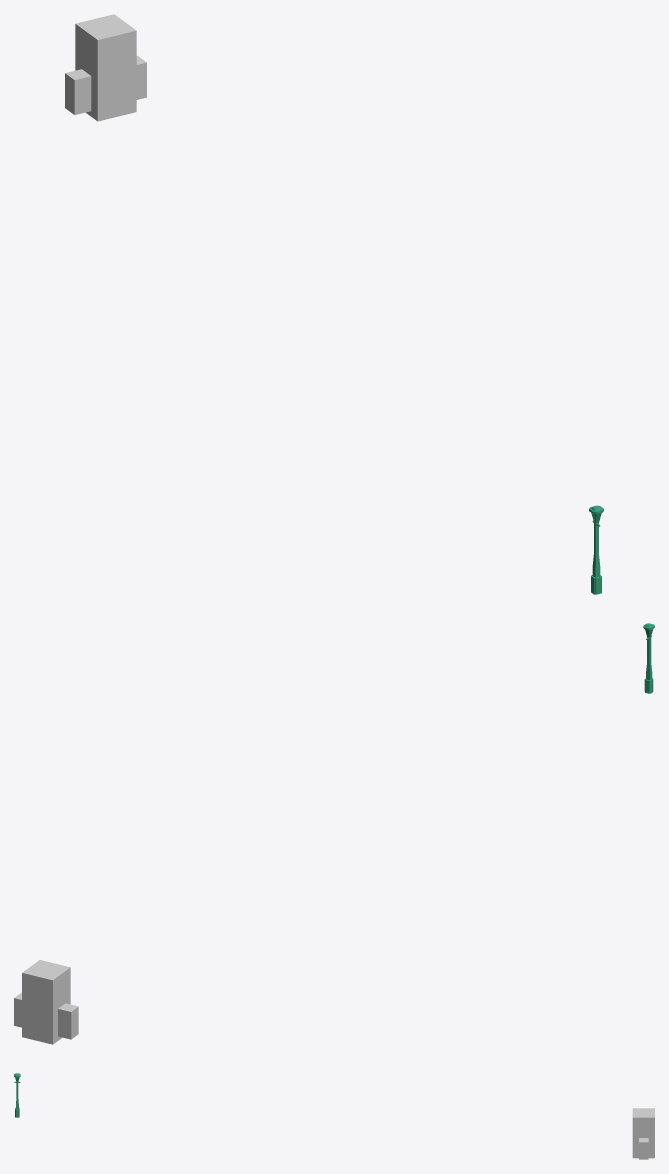
File: engineer.glb
The picture shows the model from 3 angles, top to bottom: view 1: azimuth 30°, elevation 25°; view 2: azimuth 150°, elevation 25°; view 3: azimuth 270°, elevation 25°; orthographic projection. The views are drawn at different scales.
Bounding box in the file's own units: 11.88 × 5.95 × 74.19.
